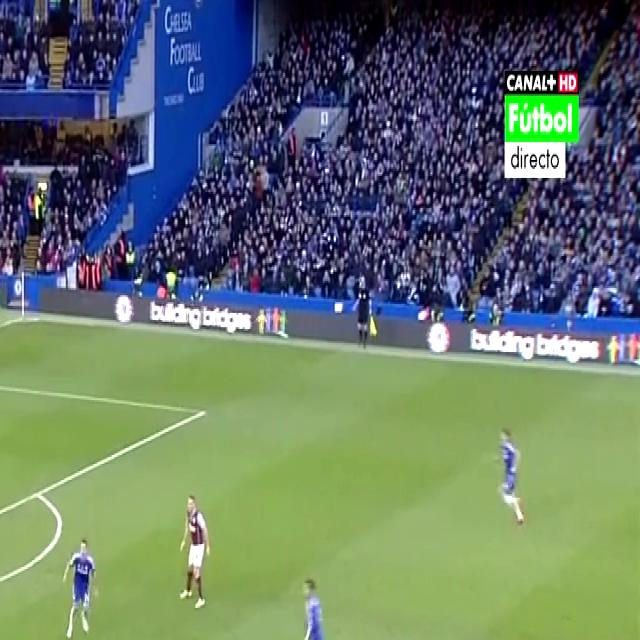referee: (350, 266, 380, 356)
soccer-player: (175, 482, 218, 620), (59, 521, 103, 640), (489, 413, 531, 533), (297, 567, 346, 640)
